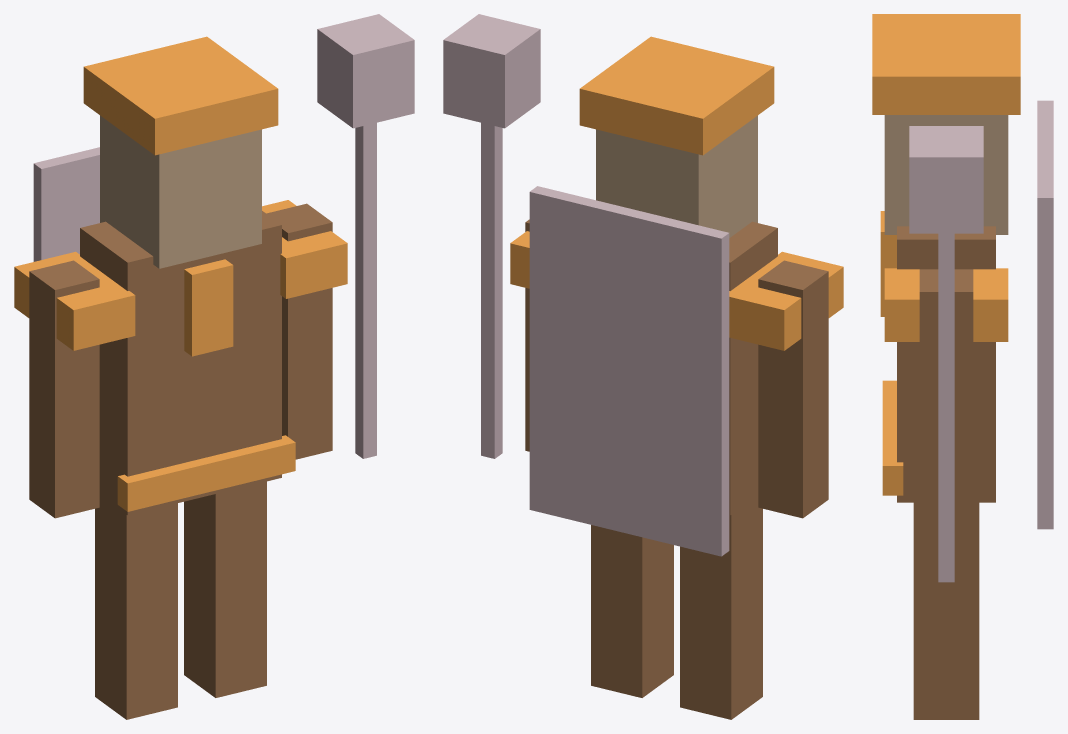
The model's file is 05_kiva_riftwalker_smith_under_spark.glb.
3 views of the same model, side by side, from view 1: azimuth 30°, elevation 25°; view 2: azimuth 150°, elevation 25°; view 3: azimuth 270°, elevation 25° (orthographic). The views are drawn at different scales.
Parts seen in each view (by area): view 1: Kiva Riftwalker, Smith under Spark; view 2: Kiva Riftwalker, Smith under Spark; view 3: Kiva Riftwalker, Smith under Spark.
Boxes of the visible parts, x1,y1,x2,y2 form: Kiva Riftwalker, Smith under Spark: [14, 14, 414, 719]; Kiva Riftwalker, Smith under Spark: [443, 14, 843, 719]; Kiva Riftwalker, Smith under Spark: [872, 14, 1053, 719].
Bounding box in the file's own units: 0.9537 × 1.58 × 0.4055.
